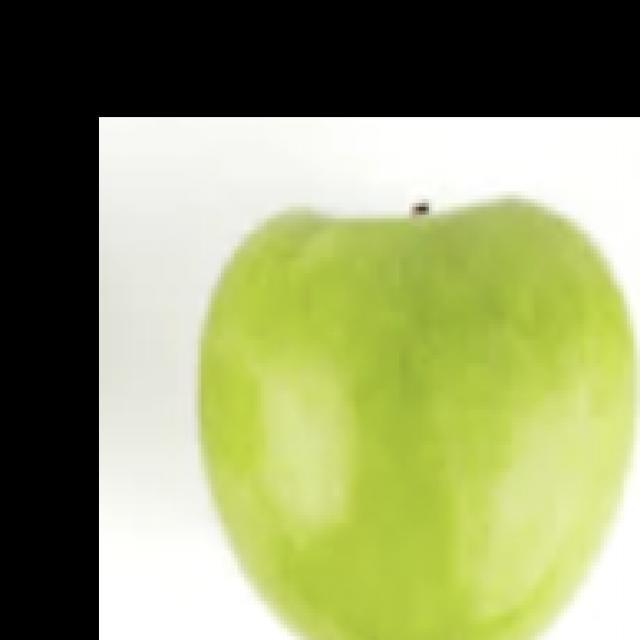Fresh Apple: (188, 194, 640, 640)
